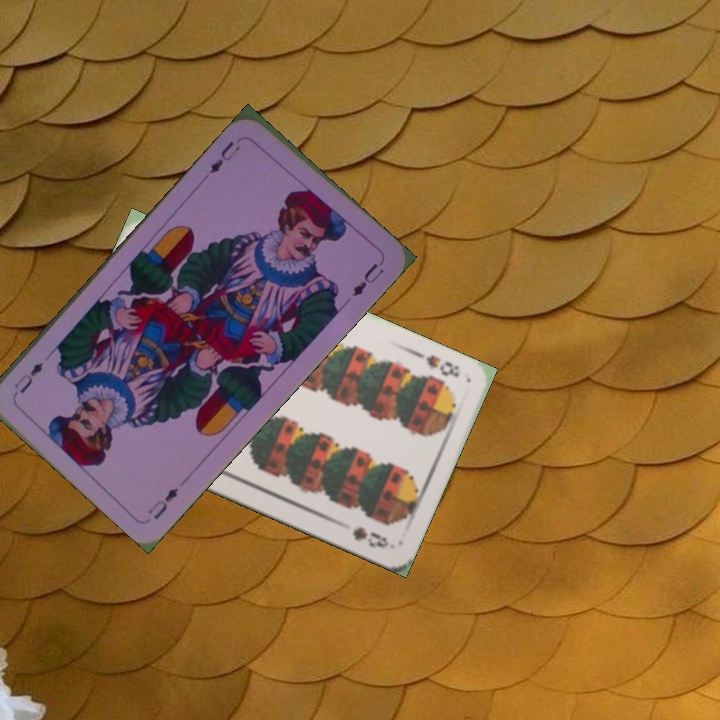EU: (205, 136, 243, 177), (144, 483, 182, 523)
S8: (411, 347, 463, 380)
